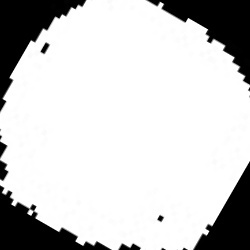spot: (2, 2, 248, 247)
